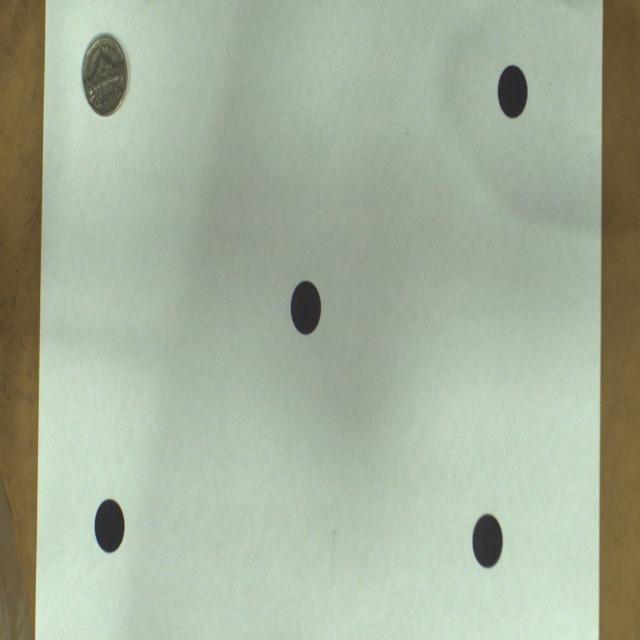space: (290, 280, 321, 336), (472, 513, 502, 569), (95, 500, 125, 553), (499, 64, 528, 118)
tail5bath: (82, 36, 128, 116)
